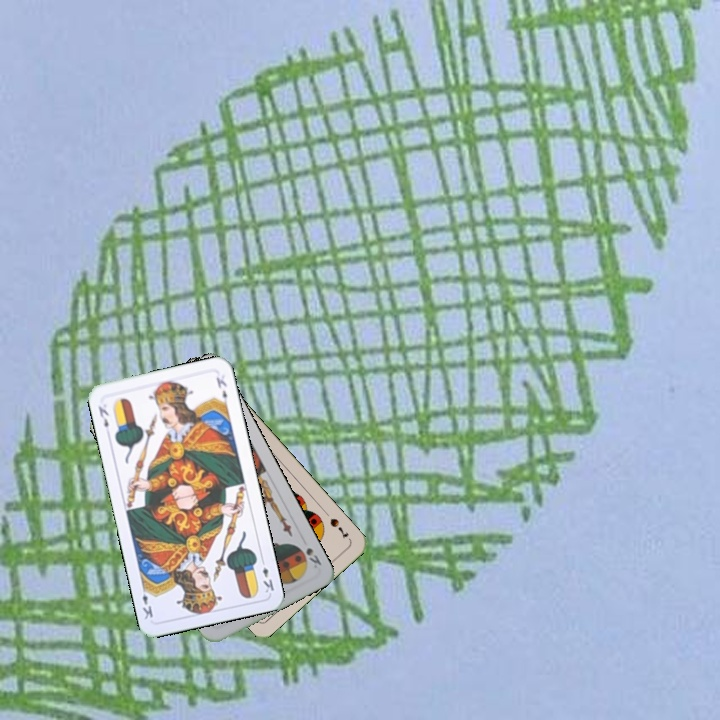EK: (257, 554, 277, 595), (94, 402, 111, 430)
S7: (326, 514, 351, 541)
SK: (302, 543, 324, 571)
